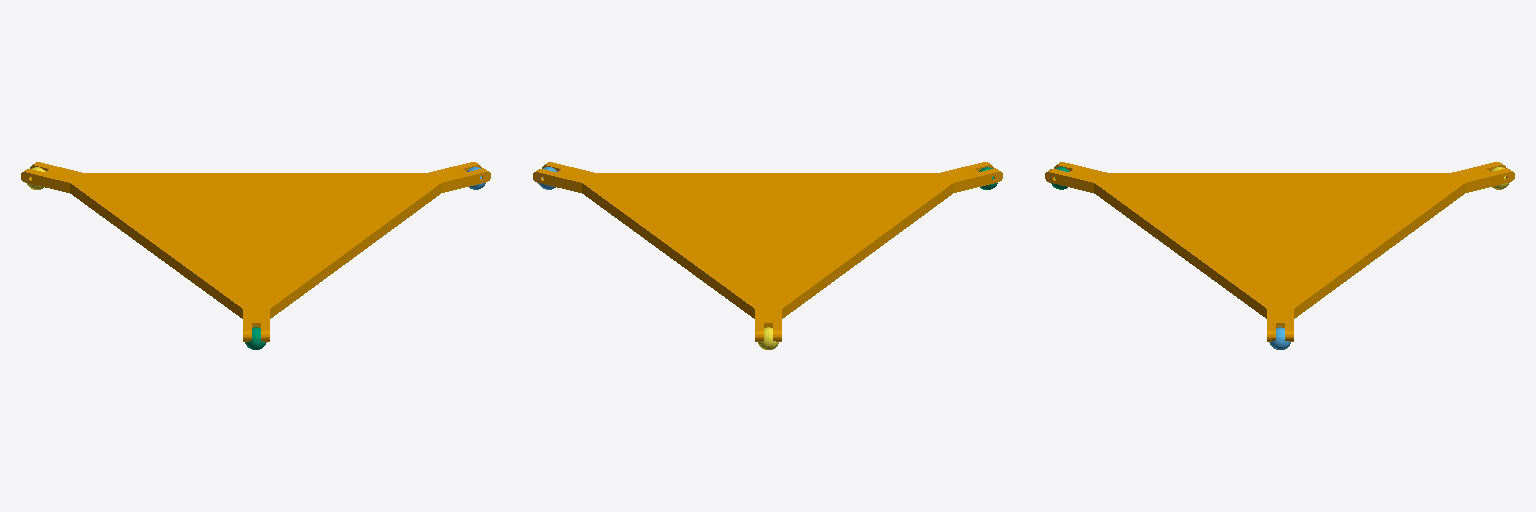
robot.urdf — stewart_platform:
<?xml version="1.0" ?>
<robot name="stewart_platform" xmlns:xacro="http://www.ros.org/wiki/xacro">

    <link name="top_plate">
        <visual>
            <origin xyz="0 0 0" rpy="0 0 -0.155"/>
            <geometry>
                <mesh filename="meshes/triangle_filled.stl" scale="0.001 0.001 0.001"/>
            </geometry>
        </visual>
    </link>

    <link name="arm1_tip">
        <inertial>
            <origin xyz="0 0 0" rpy="0 0 0"/>
            <mass value="0.01"/>
            <inertia 
                ixx="1e-6" iyy="1e-6" izz="1e-6" 
                ixy="0" ixz="0" iyz="0"/>
        </inertial>

        <visual>
            <origin xyz="0 0 0.0" rpy="0 0 0"/>
            <geometry>
                <sphere radius="0.005"/>
            </geometry>
            <material name="green"/>
        </visual>

        <collision>
            <origin xyz="0 0 0.0" rpy="0 0 0"/>
            <geometry>
                <sphere radius="0.005"/>
            </geometry>
        </collision>
    </link>

    <link name="arm2_tip">
        <inertial>
            <origin xyz="0 0 0" rpy="0 0 0"/>
            <mass value="0.01"/>
            <inertia ixx="1e-6" iyy="1e-6" izz="1e-6" ixy="0" ixz="0" iyz="0"/>
        </inertial>
        <visual>
            <origin xyz="0 0 0" rpy="0 0 0"/>
            <geometry>
                <sphere radius="0.005"/>
            </geometry>
            <material name="green"/>
        </visual>
        <collision>
            <origin xyz="0 0 0" rpy="0 0 0"/>
            <geometry>
                <sphere radius="0.005"/>
            </geometry>
        </collision>
    </link>

    <link name="arm3_tip">
        <inertial>
            <origin xyz="0 0 0" rpy="0 0 0"/>
            <mass value="0.01"/>
            <inertia ixx="1e-6" iyy="1e-6" izz="1e-6" ixy="0" ixz="0" iyz="0"/>
        </inertial>
        <visual>
            <origin xyz="0 0 0" rpy="0 0 0"/>
            <geometry>
                <sphere radius="0.005"/>
            </geometry>
            <material name="green"/>
        </visual>
        <collision>
            <origin xyz="0 0 0" rpy="0 0 0"/>
            <geometry>
                <sphere radius="0.005"/>
            </geometry>
        </collision>
    </link>

    <joint name="joint_top_to_tip1" type="revolute">
        <parent link="top_plate"/>
        <child link="arm1_tip"/>
        <origin xyz="0.11 0.000 0.00" rpy="0 0 0"/> <!-- vértice 1 -->
        <axis xyz="0 1 0"/> <!-- rotación en eje X -->
        <limit lower="-1.57" upper="1.57" effort="1" velocity="1"/>
    </joint>
    <joint name="joint_top_to_tip2" type="revolute">
        <parent link="top_plate"/>
        <child link="arm2_tip"/>
        <origin xyz="-0.055 -0.0950 0.00" rpy="0 0.0 -2.1"/> <!-- vértice 1 -->
        <axis xyz="0 1 0"/> <!-- rotación en eje X -->
        <limit lower="-1.57" upper="1.57" effort="1" velocity="1"/>
    </joint>
    <joint name="joint_top_to_tip3" type="revolute">
        <parent link="top_plate"/>
        <child link="arm3_tip"/>
        <origin xyz="-0.055 0.0950 0.00" rpy="0 0.0 2.1"/> <!-- vértice 1 -->
        <axis xyz="0 1 0"/> <!-- rotación en eje X -->
        <limit lower="-1.57" upper="1.57" effort="1" velocity="1"/>
    </joint>


</robot>

--- Render facts (derived) ---
3 views of the same robot in one strip: view 1: azimuth 30°, elevation 25°; view 2: azimuth 150°, elevation 25°; view 3: azimuth 270°, elevation 25° (orthographic).
Robot: stewart_platform — 4 links, 3 joints (3 revolute); root link top_plate; default pose: all joints at 0.
Links seen in each view (by area): view 1: top_plate; view 2: top_plate; view 3: top_plate.
Boxes of the visible links, bbox=[...] form: top_plate: bbox=[21, 162, 490, 341]; top_plate: bbox=[533, 162, 1002, 341]; top_plate: bbox=[1045, 162, 1514, 341].
Size in the robot's own frame: 0.1777 by 0.2045 by 0.01 metres.
1 mesh visuals loaded from 1 distinct referenced files (1 binary STL).